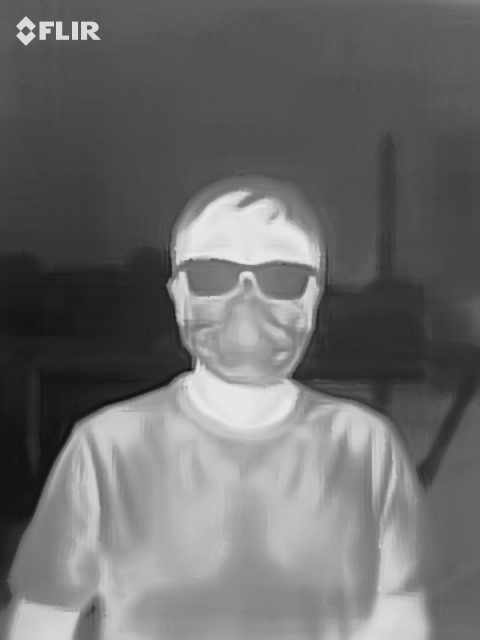head: (166, 173, 326, 388)
